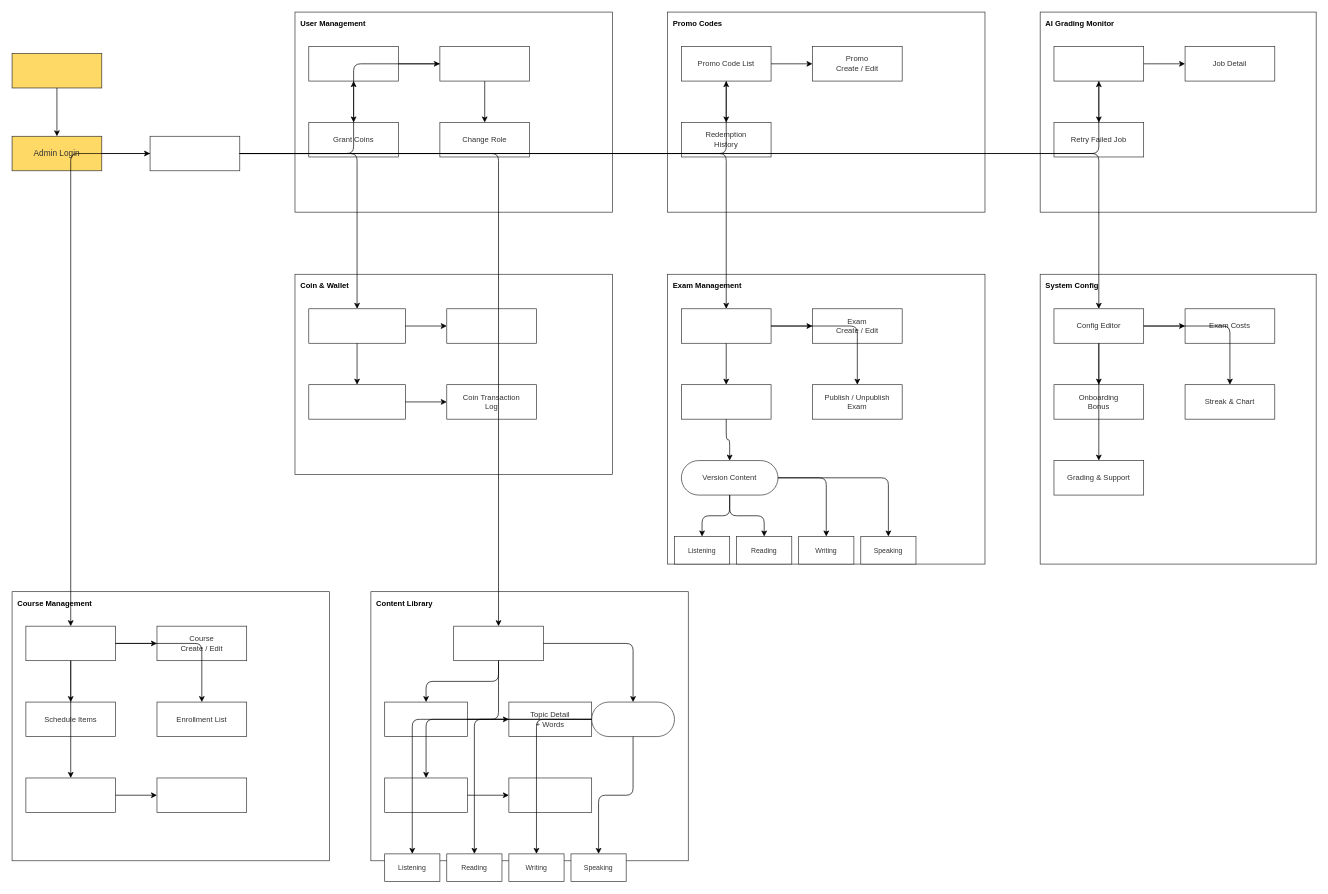
This 1328x894 diagram has some shape labels left out. Each missing label, with the centre of its shape:
"Content Hub" goes at (498,643).
"Course List" goes at (70,643).
"Dashboard" goes at (194,153).
"Exam List" goes at (726,325).
"Grading Job List" goes at (1098,63).
"Grammar Points" goes at (425,794).
"Landing Page" goes at (56,70).
"Package Create / Edit" goes at (491,325).
"Point Detail + Exercises" goes at (550,794).
"Practice Exercises" goes at (632,719).
"Slot Bookings" goes at (201,794).
"Teacher Slots" goes at (70,794).
"Topup Order List" goes at (356,401).
"Topup Package List" goes at (356,325).
"User Detail" goes at (484,63).
"User List" goes at (353,63).
"Version Manager" goes at (726,401).
"Vocab Topics" goes at (425,719).
